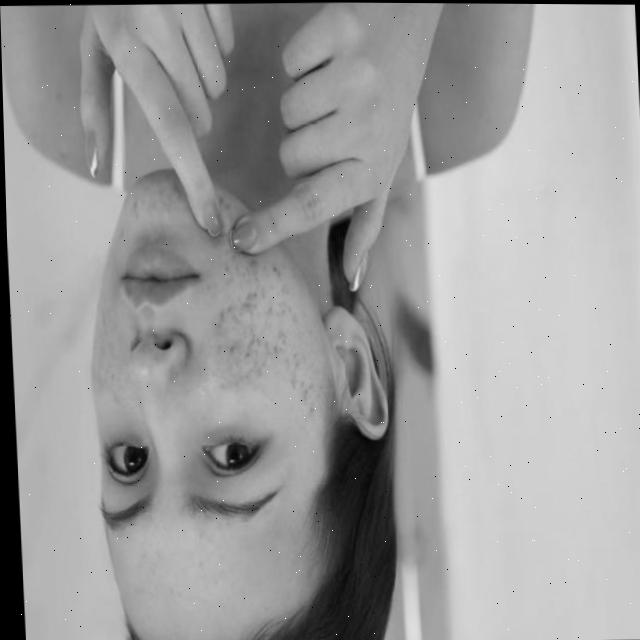Acne: (211, 221, 320, 415)
